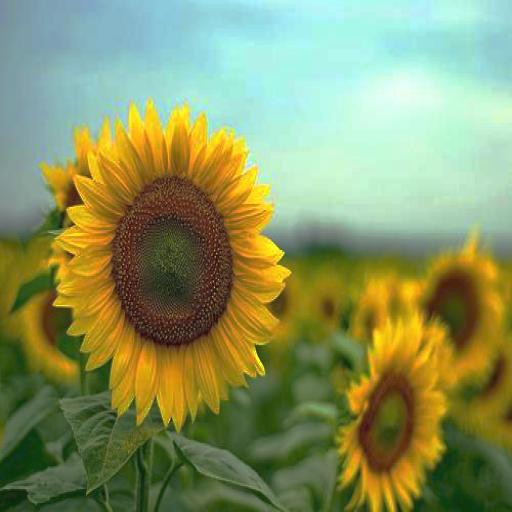sunflower: (52, 101, 293, 425), (335, 309, 450, 512)
